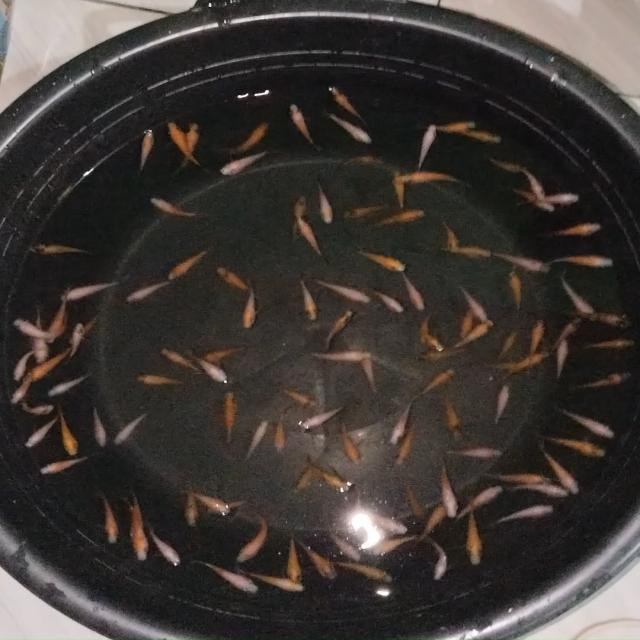nila: (198, 556, 258, 602), (536, 428, 610, 461), (291, 532, 341, 580), (448, 483, 502, 527), (541, 444, 583, 499), (233, 513, 272, 569), (24, 343, 76, 384), (288, 448, 330, 497), (324, 110, 378, 148), (554, 406, 618, 438), (491, 501, 558, 531), (168, 120, 208, 167), (165, 242, 212, 282), (564, 308, 636, 334), (388, 394, 421, 449), (186, 348, 230, 389), (330, 82, 376, 121), (286, 101, 325, 147), (328, 559, 394, 586), (142, 194, 205, 222), (416, 499, 452, 547), (310, 462, 364, 494), (247, 571, 316, 596), (222, 146, 272, 180), (560, 276, 596, 322), (496, 250, 552, 278), (294, 213, 328, 259), (306, 346, 376, 368), (512, 340, 550, 380), (364, 502, 410, 535), (61, 278, 119, 304), (44, 368, 94, 398), (298, 404, 348, 434), (38, 452, 95, 478), (386, 170, 468, 188), (420, 537, 453, 581), (314, 282, 374, 306), (27, 238, 98, 258), (158, 346, 202, 378), (115, 410, 152, 448), (356, 247, 404, 276), (29, 306, 52, 366), (437, 463, 460, 522), (44, 290, 70, 342), (418, 342, 472, 367), (368, 534, 422, 559), (340, 417, 366, 467), (578, 372, 632, 396), (24, 414, 61, 449), (232, 121, 270, 155), (127, 278, 172, 306), (192, 489, 234, 519), (173, 122, 198, 172), (327, 308, 358, 348), (513, 186, 557, 214), (56, 405, 80, 456), (482, 471, 554, 488), (359, 346, 384, 394), (372, 207, 424, 230), (137, 368, 189, 391), (331, 528, 366, 562), (98, 490, 120, 544), (466, 506, 484, 572), (401, 268, 429, 310), (436, 241, 494, 261), (332, 148, 387, 169), (552, 254, 616, 272), (314, 180, 339, 226), (16, 319, 62, 344), (154, 528, 182, 569), (554, 312, 584, 350), (460, 318, 494, 351), (442, 445, 508, 462), (502, 270, 530, 310), (69, 312, 104, 344), (442, 396, 468, 439), (415, 120, 438, 168), (394, 426, 418, 472), (418, 370, 457, 398), (219, 264, 254, 295), (371, 287, 406, 318), (129, 512, 150, 563), (244, 416, 268, 460), (508, 482, 578, 497), (578, 336, 636, 354), (518, 190, 586, 205), (286, 527, 303, 587), (297, 278, 320, 322), (210, 492, 256, 514), (64, 321, 85, 369), (222, 389, 240, 444), (548, 221, 606, 238), (9, 372, 38, 406), (458, 125, 502, 147), (464, 289, 490, 326), (200, 344, 248, 364), (13, 344, 38, 382), (240, 284, 260, 331), (527, 318, 548, 362), (137, 121, 154, 175), (496, 324, 520, 362), (404, 484, 428, 522), (343, 202, 393, 220), (181, 483, 201, 528), (290, 193, 309, 240), (15, 393, 55, 415), (130, 489, 148, 537), (90, 404, 109, 449), (459, 304, 481, 342), (552, 336, 569, 382), (415, 323, 441, 353), (494, 382, 510, 430), (391, 168, 409, 210), (284, 388, 318, 410), (484, 156, 530, 172), (524, 168, 546, 201), (484, 362, 534, 376), (429, 119, 482, 132), (442, 221, 461, 254), (418, 310, 434, 347), (275, 414, 288, 456), (125, 499, 136, 543)
